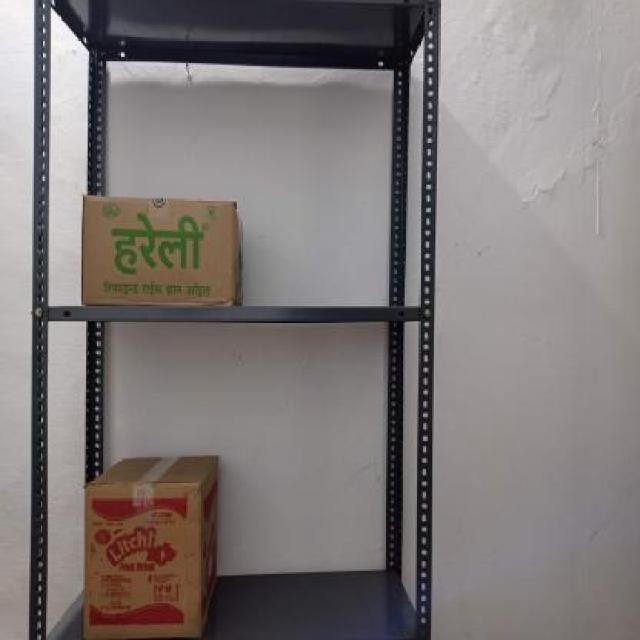box: (83, 481, 201, 640), (82, 193, 236, 307)
